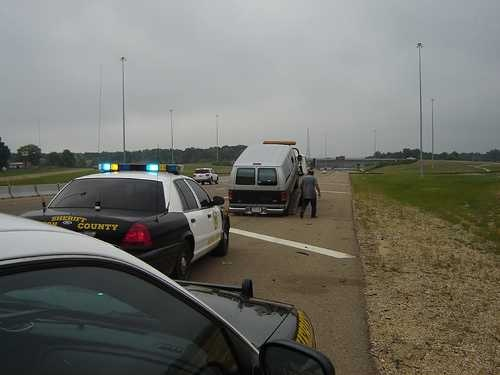Police Car: (10, 142, 230, 285)
